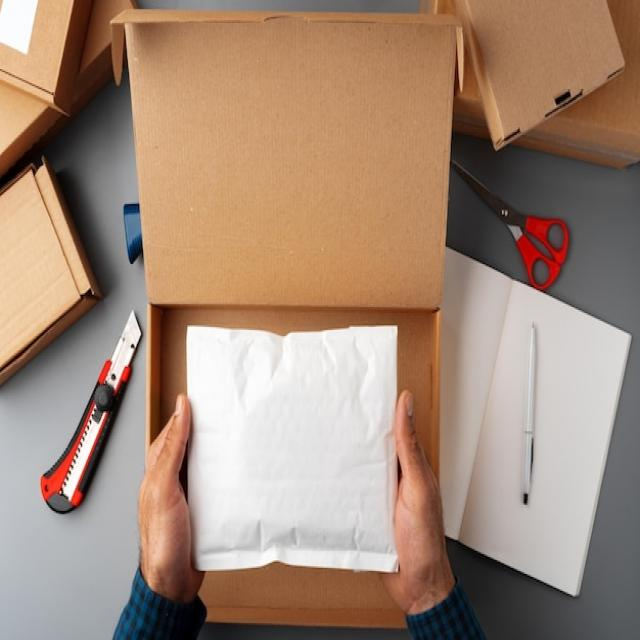box: (112, 7, 462, 640)
